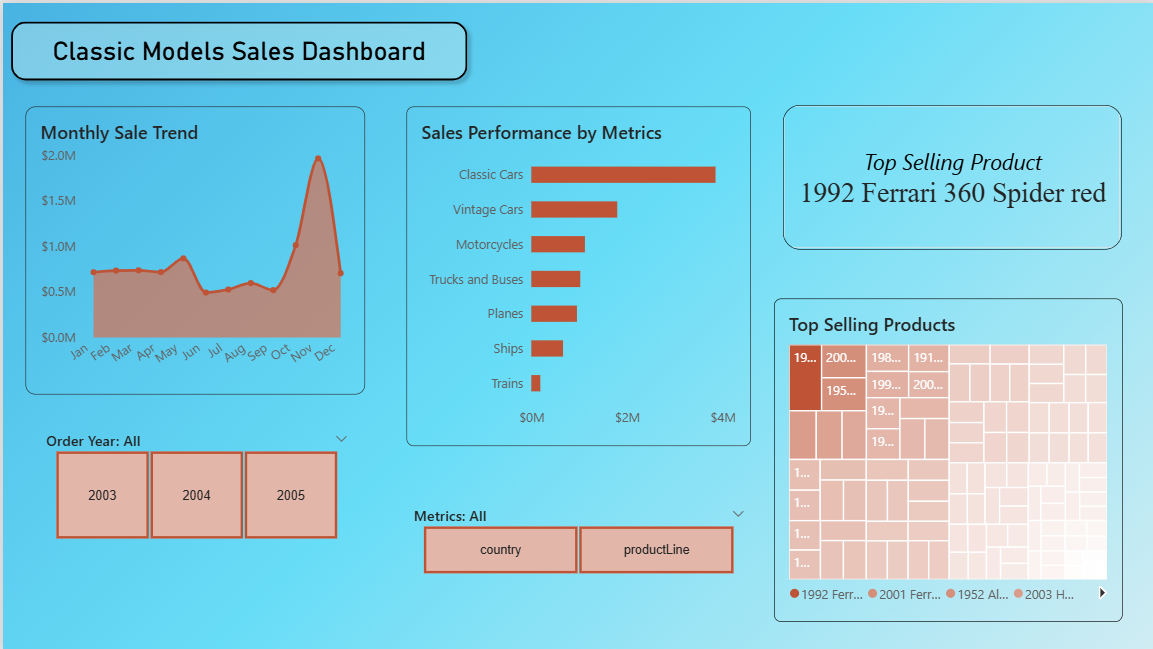

Layout of this report page (visuals, bound fields, positions):
{"tool":"powerbi","page":{"name":"Sales Analysis Page","canvas":[1280,720],"ordinal":0},"visuals":[{"type":"lineChart","title":"Monthly Sale Trend","fields":{"Category":["orders.Order Month Name"],"Y":["Sum(order details.money earned)"]},"box":[25,115,377.5,320],"z":1000},{"type":"slicer","fields":{"Values":["orders.Order Year"]},"box":[40,475,350,120],"z":2000},{"type":"clusteredBarChart","title":"Sales Performance by Metrics","fields":{"Category":["customers.country","products.productLine"],"Y":["Sum(order details.money earned)"]},"box":[447.5,115,382.5,377.5],"z":3000},{"type":"slicer","title":"Sales Performance By Country","fields":{"Values":["Metrics.Metrics"]},"box":[447.5,557.5,382.5,75],"z":4000},{"type":"cardVisual","fields":{"Data":["orders.Top Selling Product"]},"box":[867.5,114.1,376.7,161],"z":5000},{"type":"treemap","title":"Top Selling Products","fields":{"Group":["products.productName"],"Values":["Sum(order details.money earned)"]},"box":[856.5,328.2,387.6,359.5],"z":6000},{"type":"shape","box":[0,11.7,525,83.3],"z":6001}]}

Visuals, with their boxes in screenshot pixels (x1, y1, x2, y2), scaled from the page's 1280x720 canvas onto the 1153x649 screenshot:
"Monthly Sale Trend" lineChart: [x1=23, y1=104, x2=363, y2=392]
slicer - orders.Order Year: [x1=36, y1=428, x2=351, y2=536]
"Sales Performance by Metrics" clusteredBarChart: [x1=403, y1=104, x2=748, y2=444]
"Sales Performance By Country" slicer: [x1=403, y1=503, x2=748, y2=570]
cardVisual - orders.Top Selling Product: [x1=781, y1=103, x2=1121, y2=248]
"Top Selling Products" treemap: [x1=772, y1=296, x2=1121, y2=620]
shape: [x1=0, y1=11, x2=473, y2=86]
